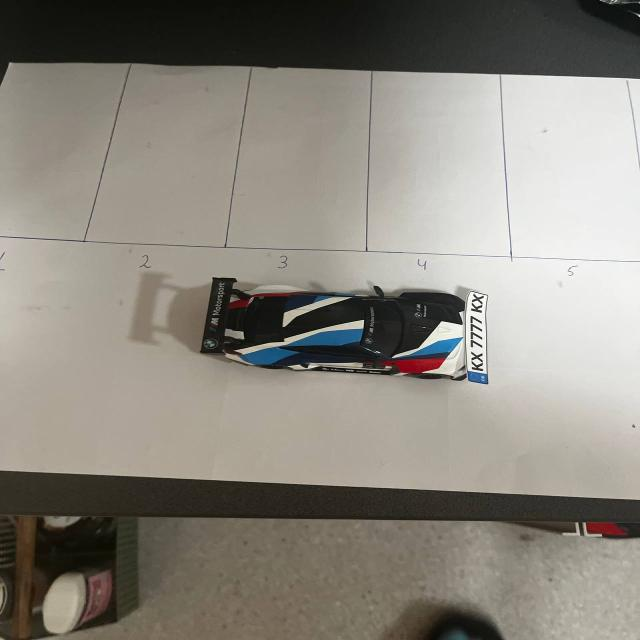cars: (188, 261, 504, 394)
